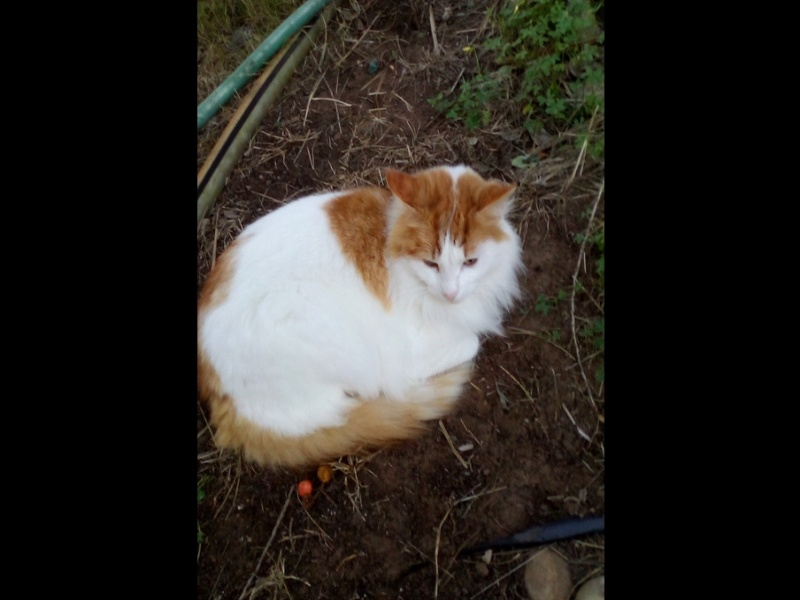cat: (200, 158, 523, 457)
